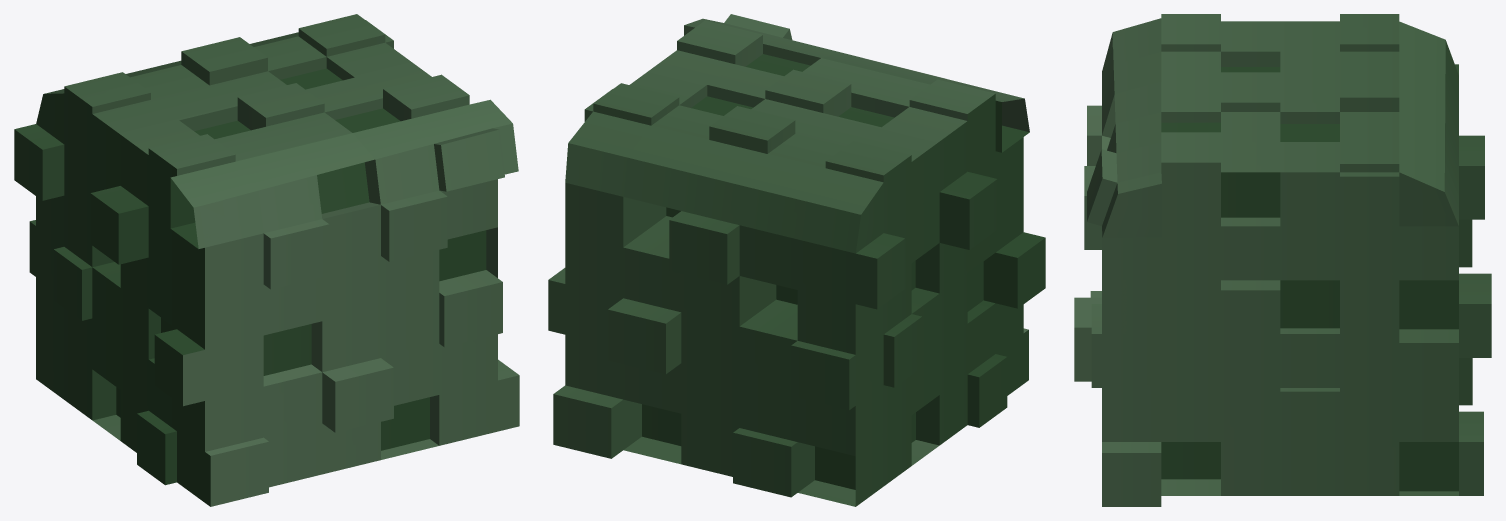
File: arbusto quadrado.fbx
3 renders of one model, left to right at view 1: azimuth 30°, elevation 25°; view 2: azimuth 150°, elevation 25°; view 3: azimuth 270°, elevation 25°, orthographic. The views are drawn at different scales.
Visible parts, largest first — view 1: Cube; view 2: Cube; view 3: Cube.
Boxes of the visible parts, box(x1,y1,x2,y2) form: Cube: box(14, 14, 519, 506); Cube: box(548, 14, 1045, 506); Cube: box(1074, 14, 1491, 506).
Bounding box in the file's own units: 236 × 209 × 234.
1 material, 1 textured.
